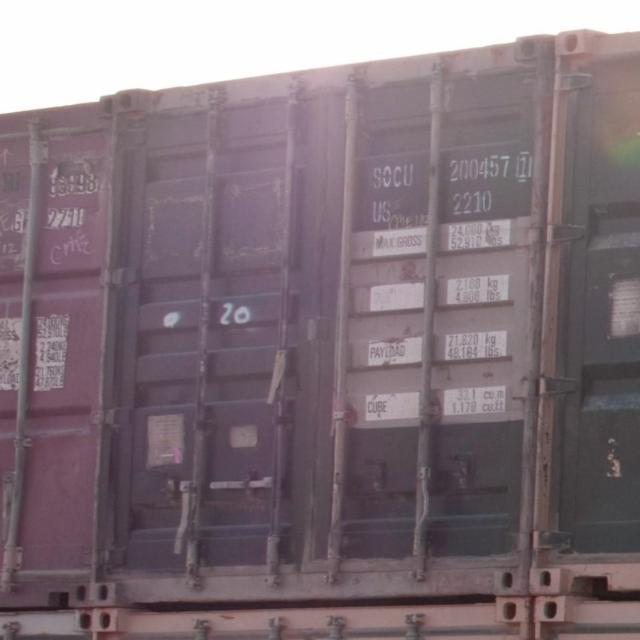ISO: (443, 188, 500, 218)
container_number: (368, 150, 544, 186)
